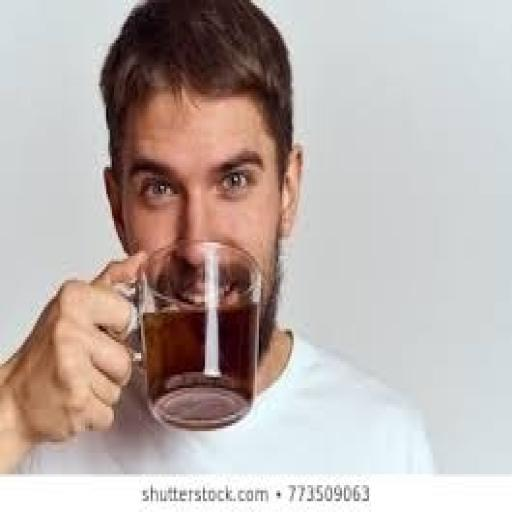drinking: (112, 63, 298, 431)
